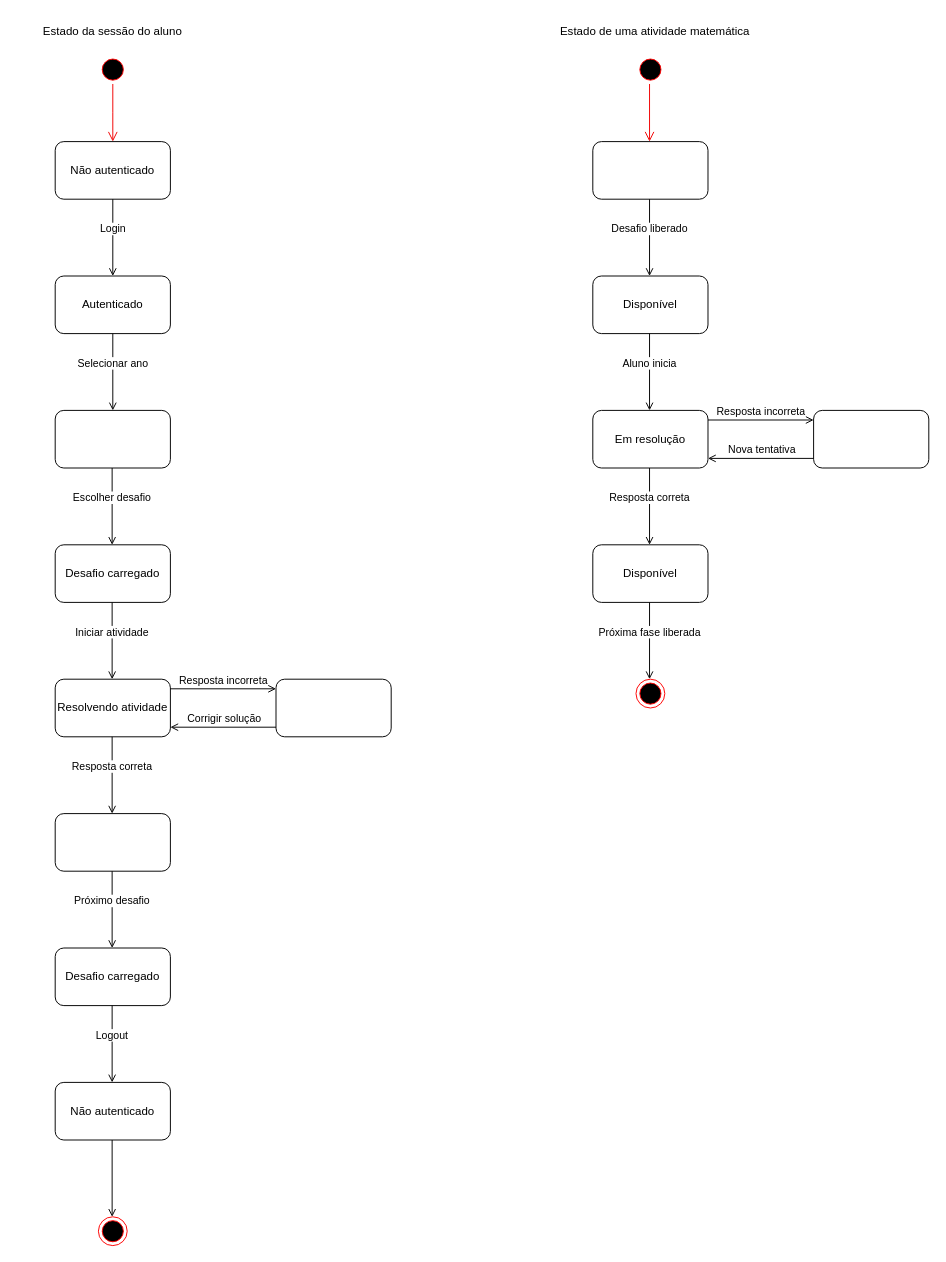
The diagram is 946 pixels wide and 1262 high, and some of its shapes have lost their labels. The shapes that lost their labels are listed below. From the top down, each one's centre as x and y in pixels, then its label:
At point (650, 170): "Bloqueada".
At point (112, 438): "Ano selecionado".
At point (871, 438): "Tentativa inválida".
At point (333, 707): "Recebendo orientação".
At point (112, 842): "Atividade concluída".
